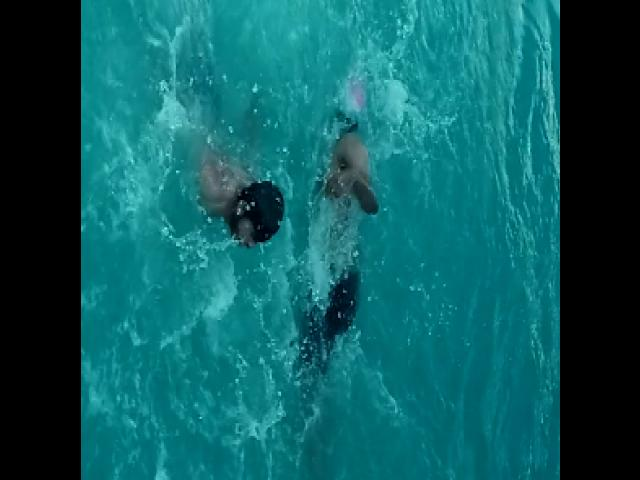swimming: (296, 88, 382, 373), (192, 154, 291, 256)
